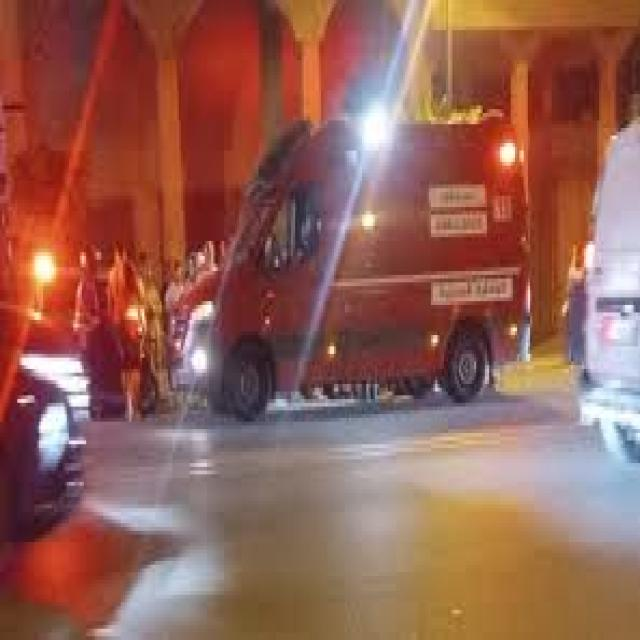ambulance: (174, 108, 532, 424)
